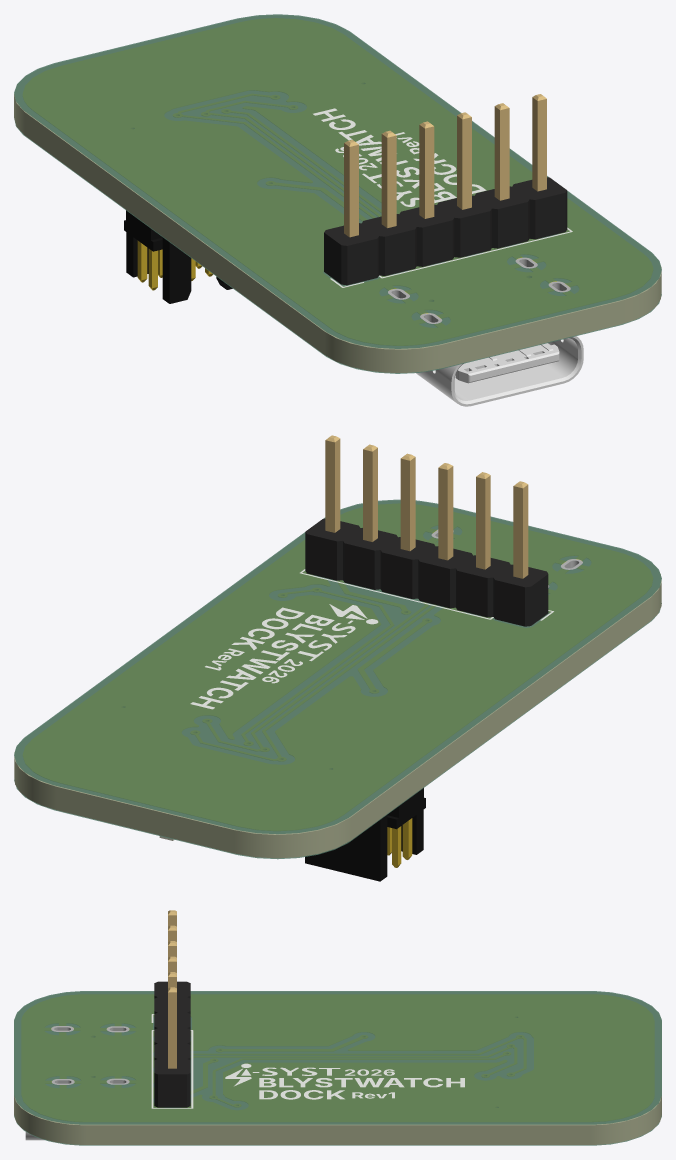
Rendered from BLYSTWATCH_Dock.glb.
3 renders of one model, top to bottom at view 1: azimuth 30°, elevation 25°; view 2: azimuth 150°, elevation 25°; view 3: azimuth 270°, elevation 25°, orthographic. The views are drawn at different scales.
Visible parts, largest first — view 1: =>[0:1:1:23], =>[0:1:1:18], =>[0:1:1:25], =>[0:1:1:3], USB4125-GF-A_PART1, FTSH-105-01-L-DV-K-TR_body, =>[0:1:1:21], FTSH-105-01-L-DV-K-TR_pins1, =>[0:1:1:24], =>[0:1:1:19]; view 2: =>[0:1:1:23], =>[0:1:1:18], =>[0:1:1:25], =>[0:1:1:3], FTSH-105-01-L-DV-K-TR_body, =>[0:1:1:21], FTSH-105-01-L-DV-K-TR_pins1, =>[0:1:1:24]; view 3: =>[0:1:1:23], =>[0:1:1:18], =>[0:1:1:25], =>[0:1:1:3], =>[0:1:1:21], =>[0:1:1:24], =>[0:1:1:19].
Boxes of the visible parts, x1,y1,x2,y2 form: =>[0:1:1:23]: [14, 14, 661, 348]; =>[0:1:1:18]: [23, 18, 652, 345]; =>[0:1:1:25]: [14, 15, 661, 372]; =>[0:1:1:3]: [324, 94, 567, 285]; USB4125-GF-A_PART1: [416, 336, 583, 406]; FTSH-105-01-L-DV-K-TR_body: [124, 210, 232, 303]; =>[0:1:1:21]: [313, 108, 572, 287]; FTSH-105-01-L-DV-K-TR_pins1: [137, 240, 213, 290]; =>[0:1:1:24]: [14, 119, 661, 373]; =>[0:1:1:19]: [388, 257, 570, 323]; =>[0:1:1:23]: [14, 499, 661, 834]; =>[0:1:1:18]: [23, 504, 652, 830]; =>[0:1:1:25]: [14, 501, 661, 858]; =>[0:1:1:3]: [305, 435, 548, 626]; FTSH-105-01-L-DV-K-TR_body: [305, 788, 425, 881]; =>[0:1:1:21]: [190, 569, 553, 709]; FTSH-105-01-L-DV-K-TR_pins1: [387, 818, 412, 867]; =>[0:1:1:24]: [14, 603, 661, 859]; =>[0:1:1:23]: [14, 991, 661, 1124]; =>[0:1:1:18]: [22, 995, 653, 1121]; =>[0:1:1:25]: [14, 992, 661, 1144]; =>[0:1:1:3]: [154, 910, 190, 1107]; =>[0:1:1:21]: [151, 1014, 464, 1108]; =>[0:1:1:24]: [14, 1115, 661, 1145]; =>[0:1:1:19]: [51, 1026, 129, 1084].
Bounding box in the file's own units: 0.022 × 0.0164 × 0.045.
